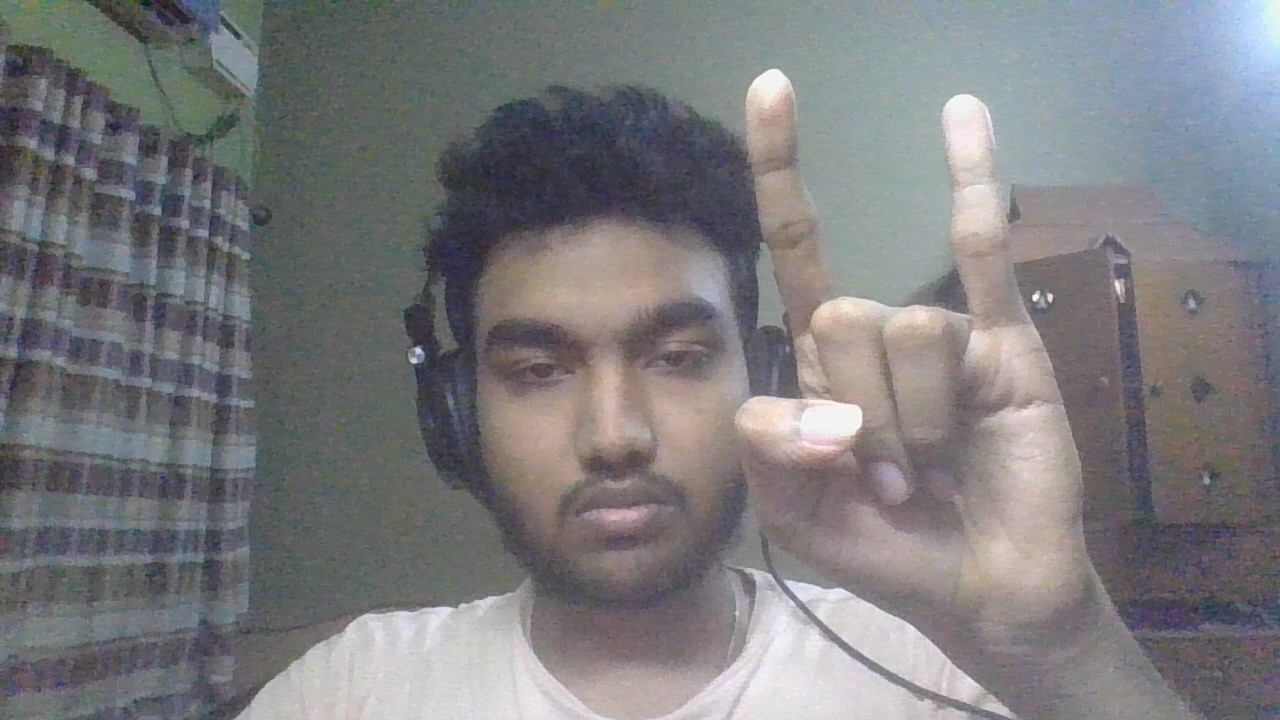Love: (728, 62, 1134, 651)
